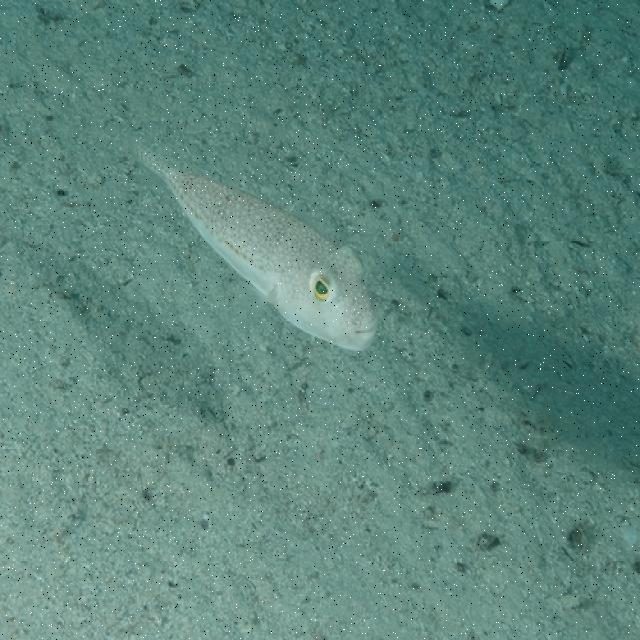Balik: (139, 151, 376, 351)
